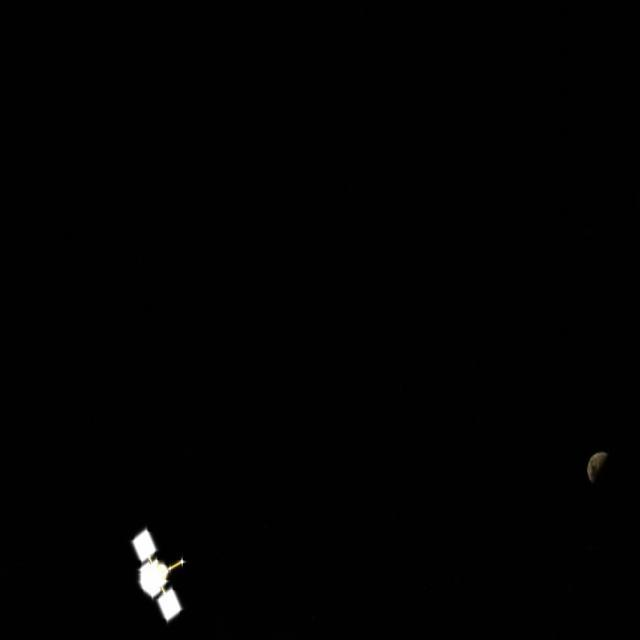satellite: (117, 513, 198, 640)
